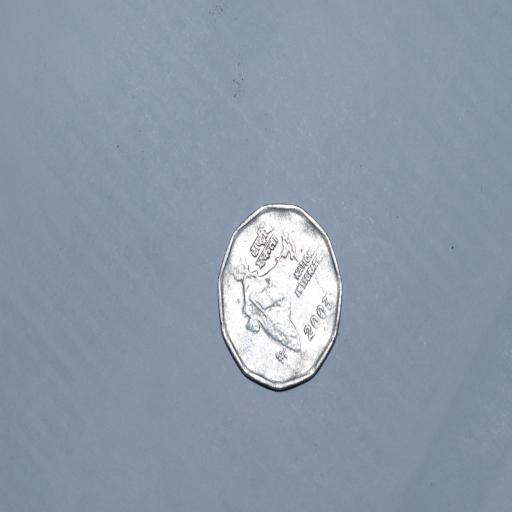rupee2: (217, 204, 344, 392)
